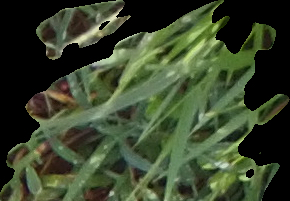grass: (1, 1, 289, 200)
